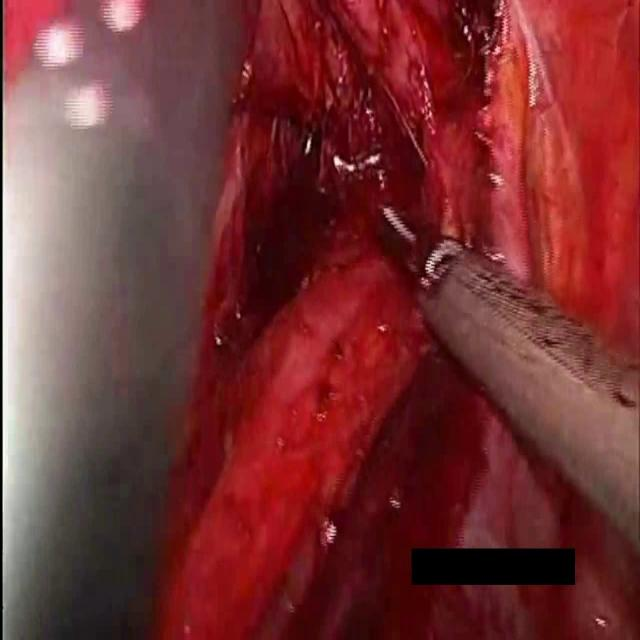surgical-area: (150, 0, 640, 639), (574, 536, 640, 599)
surgical-tool: (367, 181, 640, 552)
